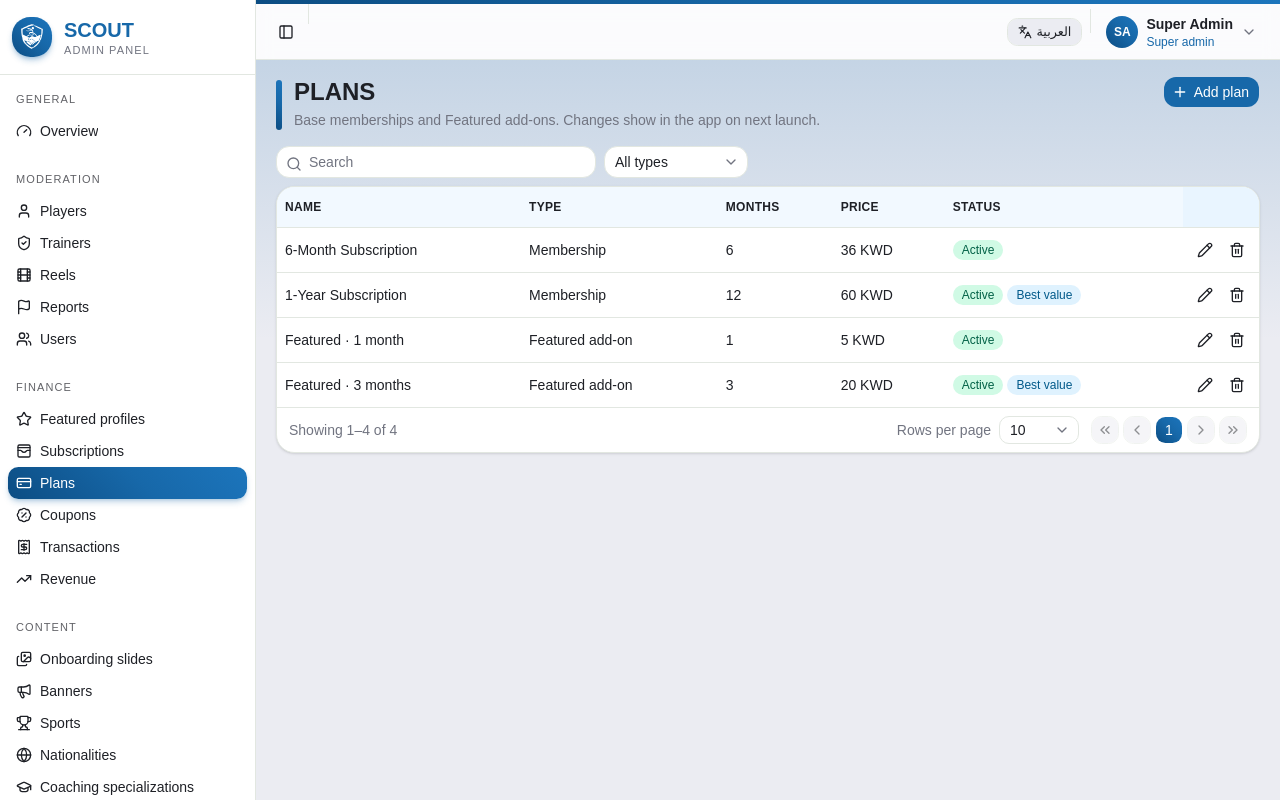
Test: clickable dashboard › adds a plan only when English and Arabic names are both filled
Click the button "Add plan" at (1211, 92), box [1163,76,1260,108]
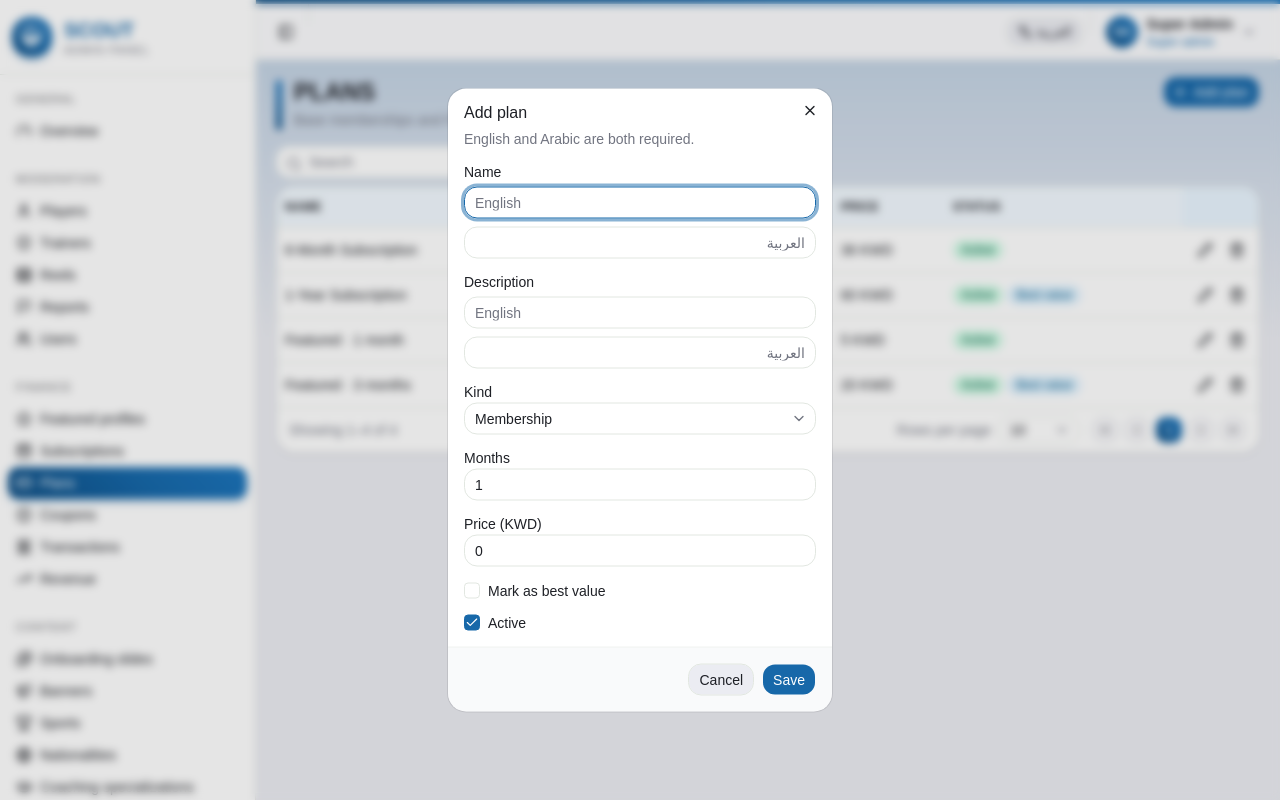
Type "Test plan" into the field named "Name (EN)" at (640, 202), box [464,186,816,218]
Click the button "Save" at (789, 680), box [762,664,816,696]
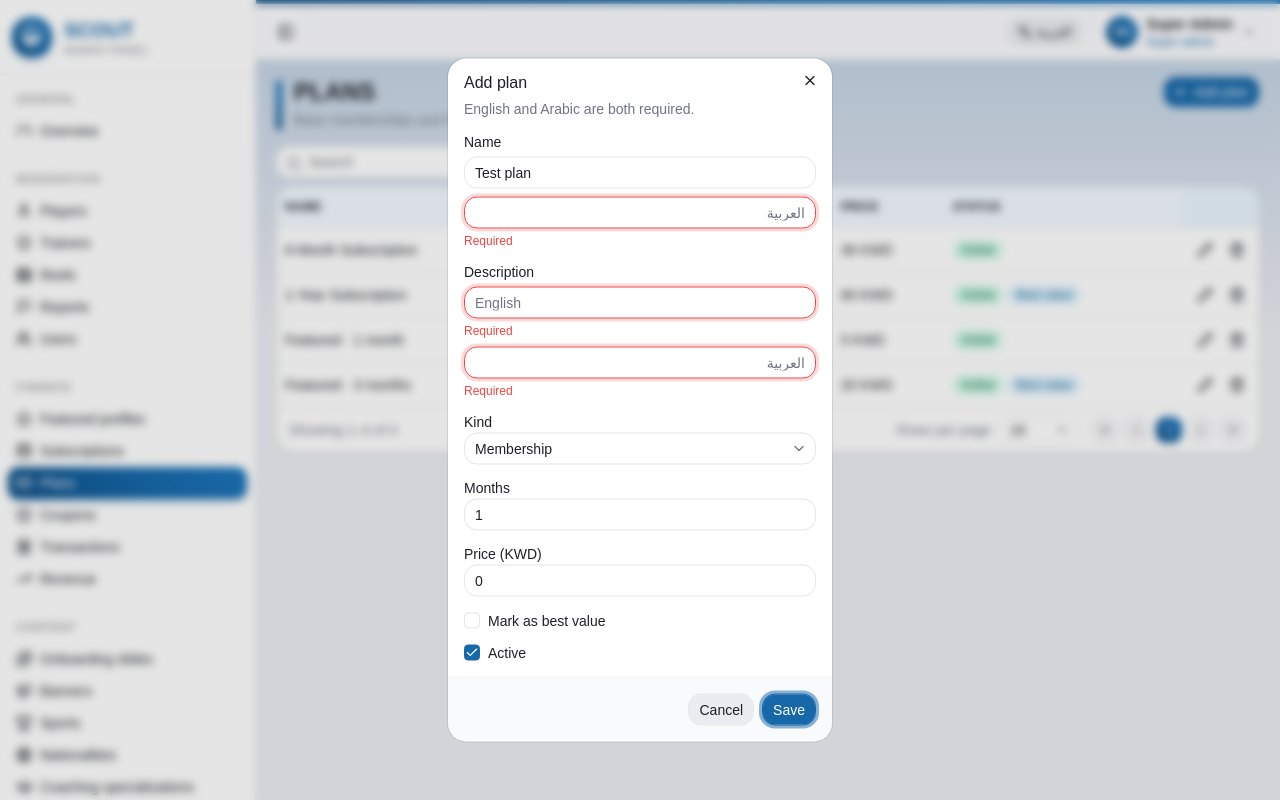
Expected: the 1st text "Required" is shown, [464,234,513,248]
Type "باقة" into the field named "Name (AR)" at (640, 212), box [464,196,816,228]
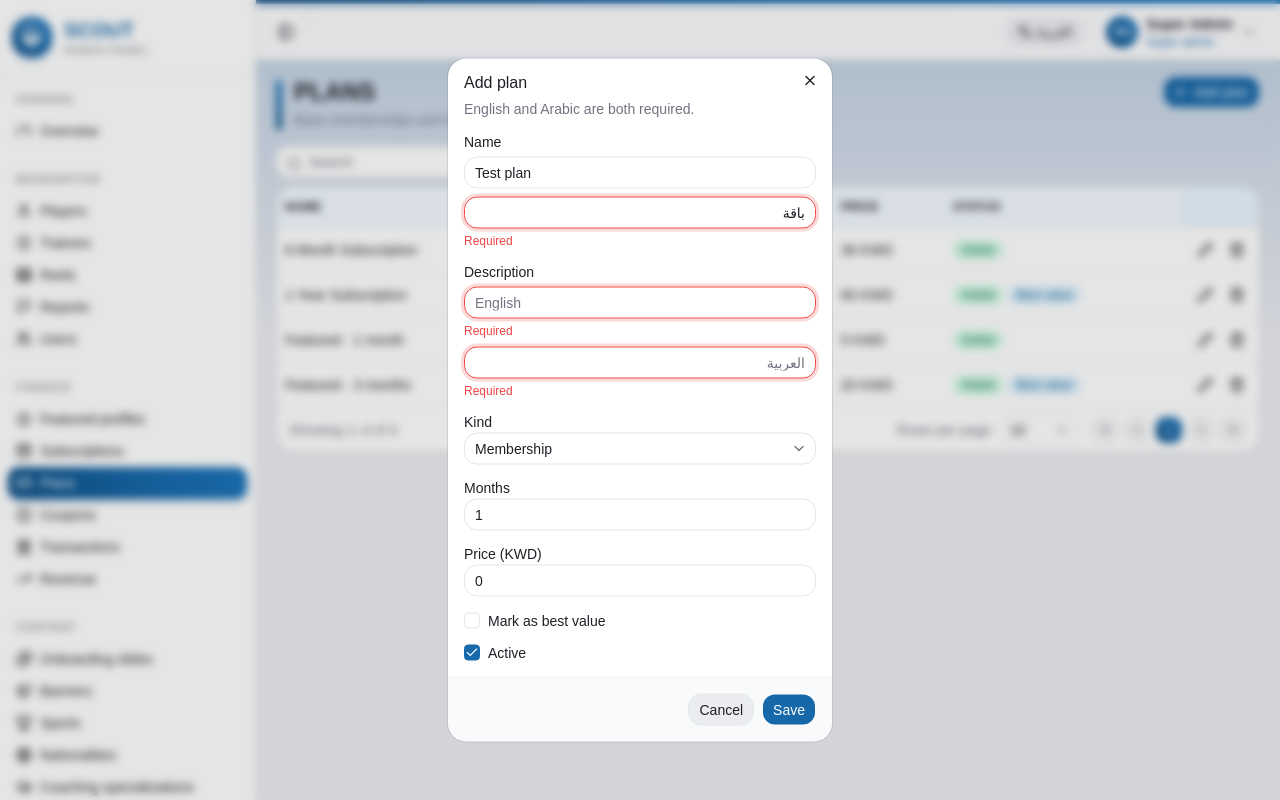
Type "Test description" into the field named "Description (EN)" at (640, 302), box [464,286,816,318]
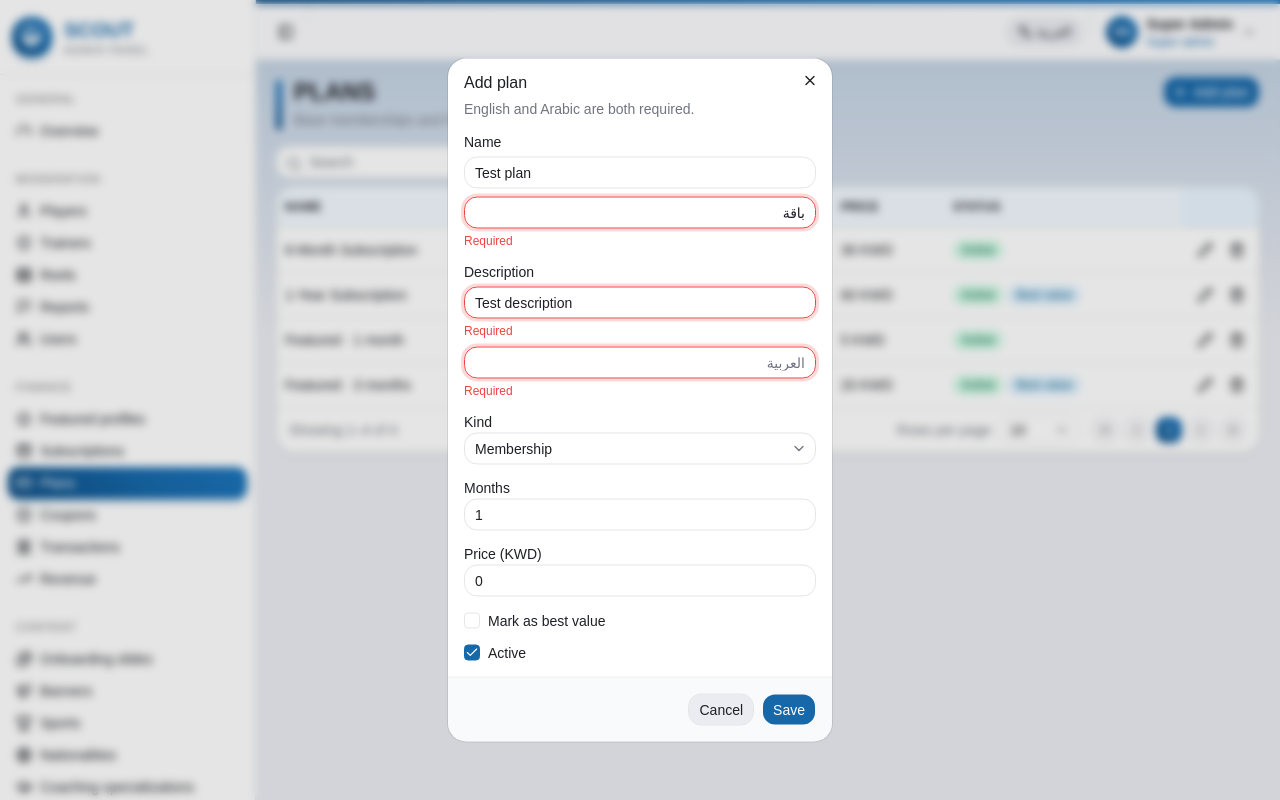
Type "وصف" into the field named "Description (AR)" at (640, 362), box [464,346,816,378]
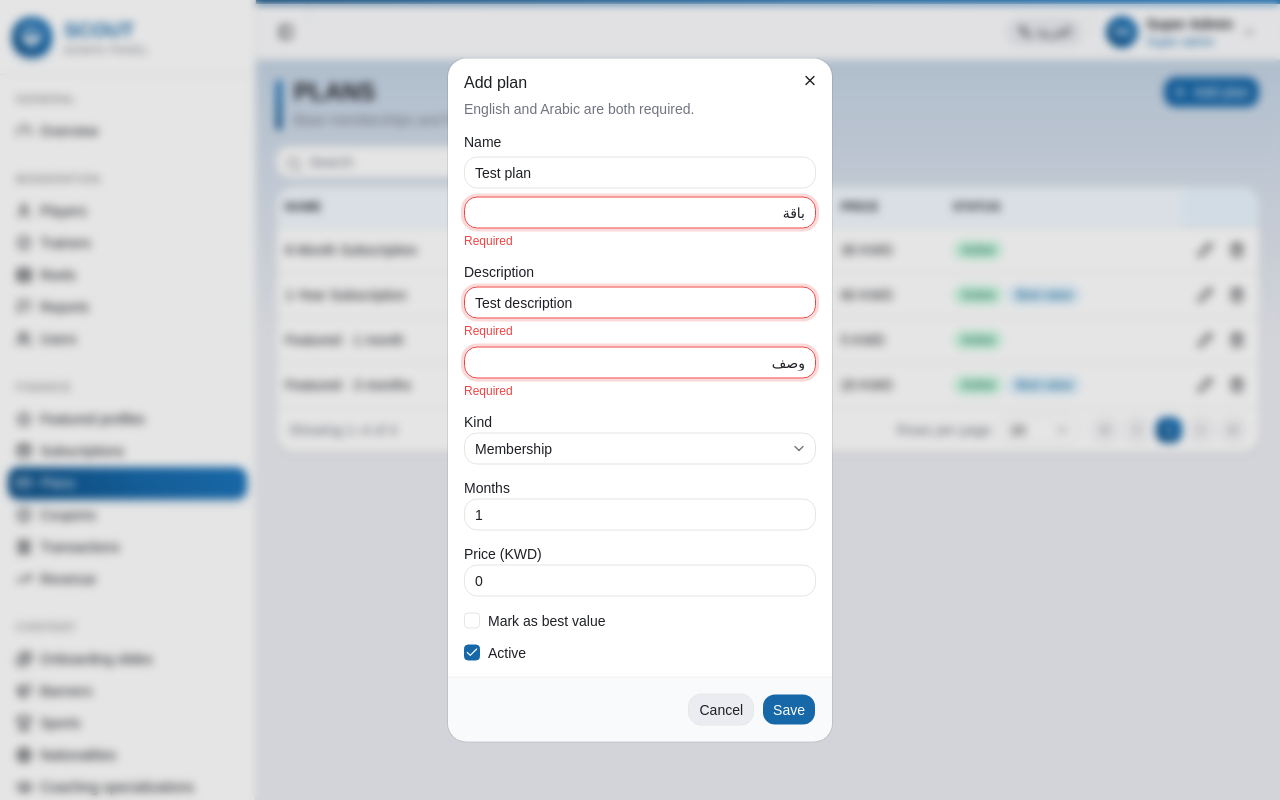
Click the button "Save" at (789, 710), box [762,694,816,726]
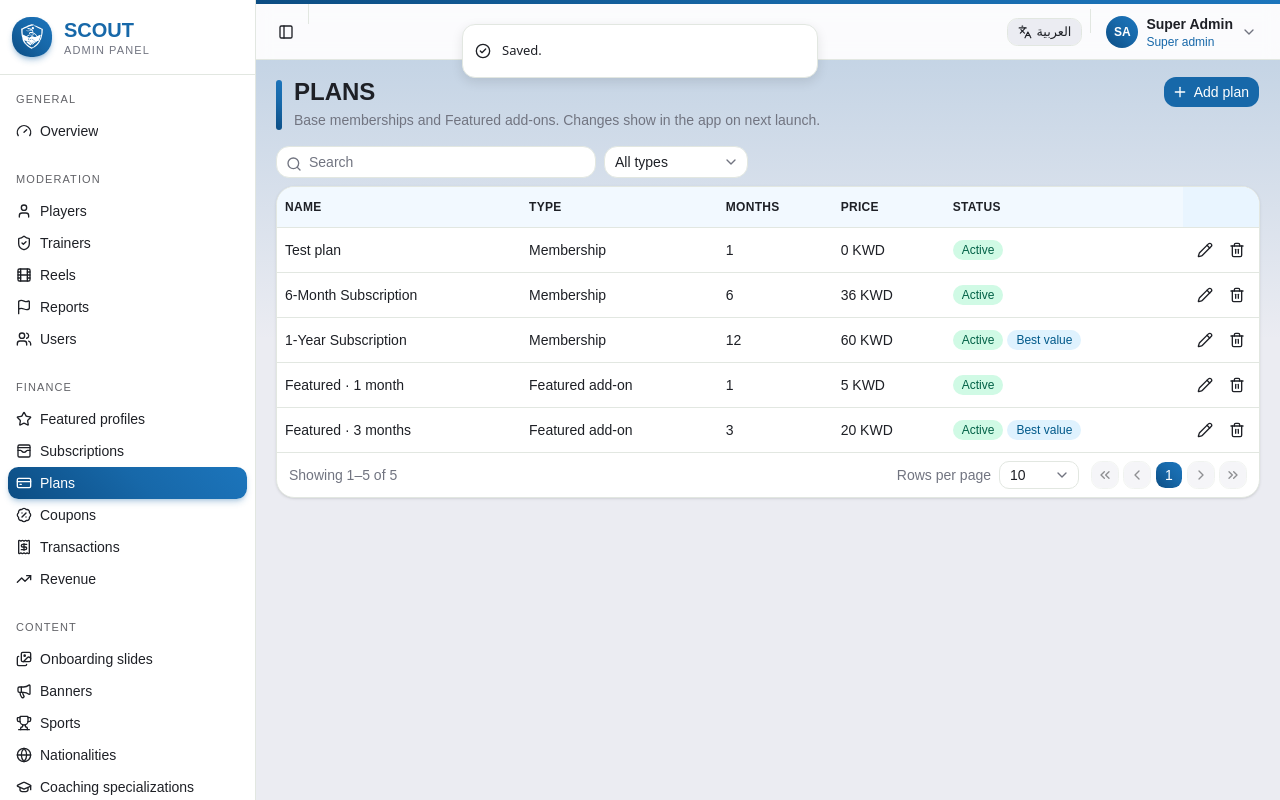
Expected: the text "Test plan" is shown, [285,242,341,258]
